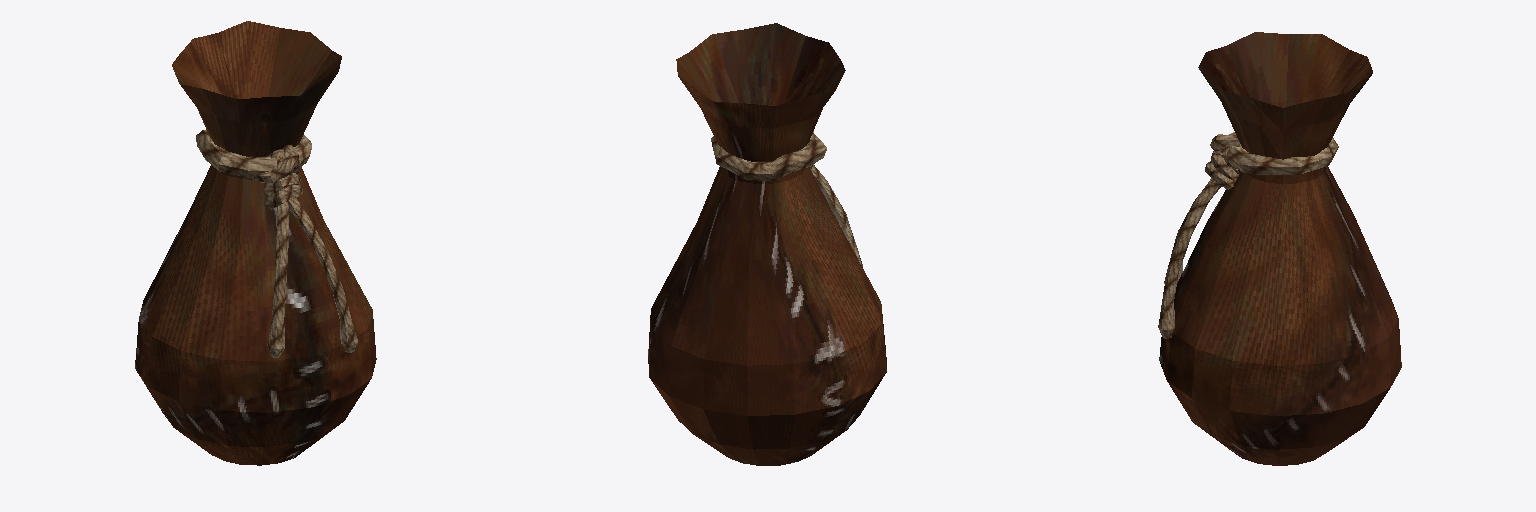
3 renders of one model, left to right at view 1: azimuth 30°, elevation 25°; view 2: azimuth 150°, elevation 25°; view 3: azimuth 270°, elevation 25°, orthographic.
Visible parts, largest first — view 1: rdmobj00.009; view 2: rdmobj00.009; view 3: rdmobj00.009.
Part boxes in pixels (x1,y1,x2,y2): rdmobj00.009: (135, 21, 376, 465); rdmobj00.009: (648, 23, 886, 465); rdmobj00.009: (1158, 32, 1401, 465).
Size of the model in its own units: 18.93 by 34.07 by 19.01.
Materials: 1 (1 with a texture image).